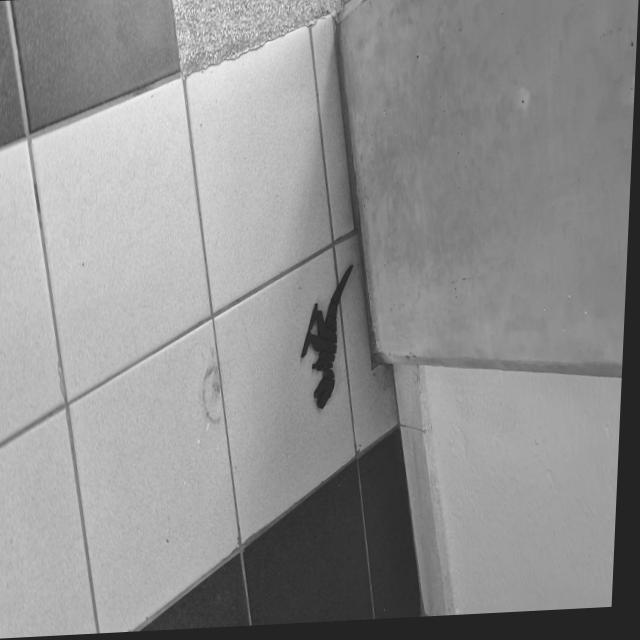dino: (298, 262, 354, 410)
